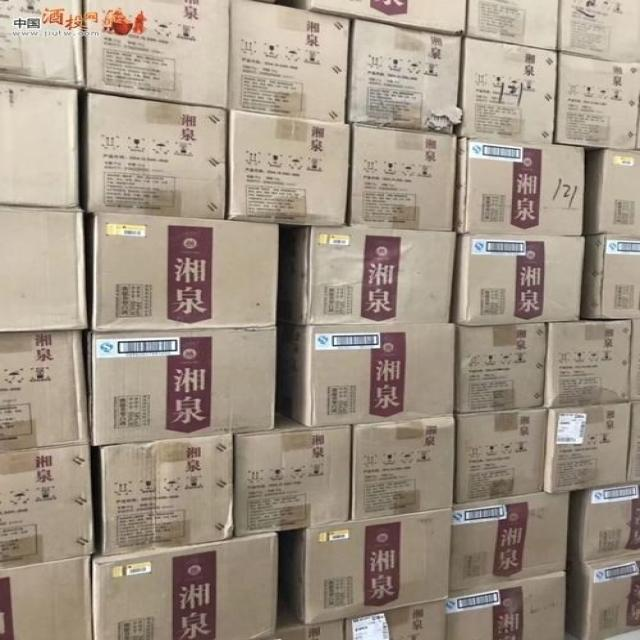box: (85, 327, 278, 444), (93, 212, 281, 331), (90, 531, 279, 639), (279, 509, 452, 623), (276, 322, 454, 426), (84, 93, 229, 218), (275, 224, 457, 323), (96, 434, 234, 555), (83, 1, 231, 104), (226, 0, 353, 120), (225, 111, 352, 224), (351, 20, 469, 137), (234, 424, 353, 536), (457, 135, 585, 234), (344, 122, 459, 230), (454, 234, 587, 327), (0, 204, 91, 333), (0, 442, 92, 568), (452, 493, 569, 591), (350, 414, 454, 519), (0, 332, 92, 450), (0, 80, 83, 208), (460, 38, 560, 142), (456, 405, 548, 503), (454, 323, 545, 412), (556, 55, 639, 152), (446, 573, 564, 639), (544, 403, 630, 492), (0, 558, 93, 639), (0, 0, 84, 88), (547, 323, 631, 408), (277, 598, 449, 639), (563, 486, 639, 575), (563, 563, 639, 639), (306, 0, 468, 34), (559, 0, 639, 66), (464, 0, 561, 51), (581, 233, 639, 318), (585, 148, 638, 240), (626, 401, 639, 488), (627, 319, 639, 401)
